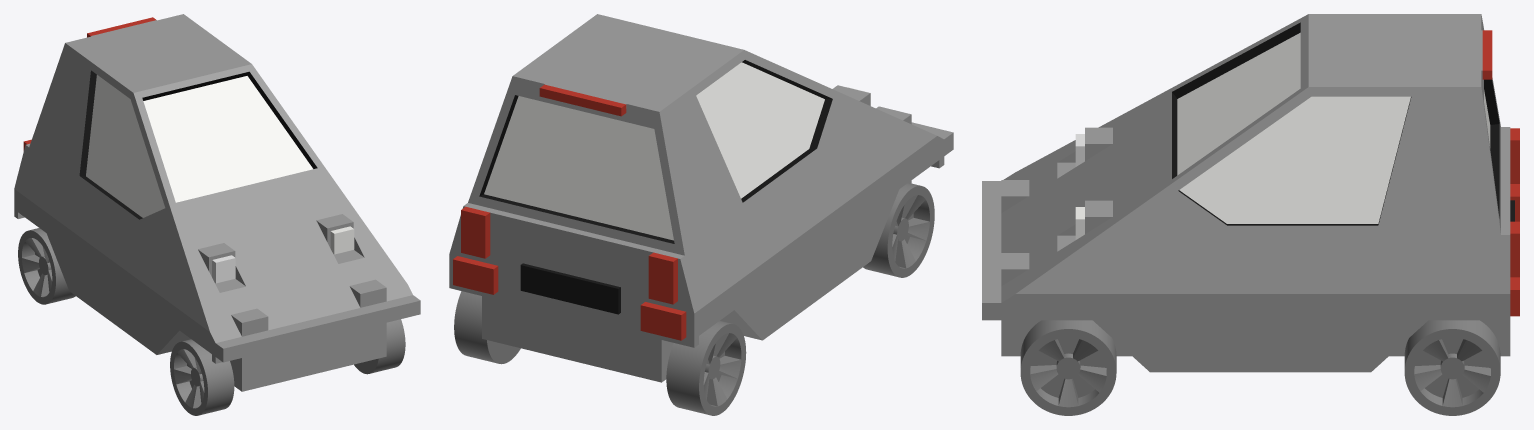
File: CitiCar v2.fbx
The picture shows the model from 3 angles, left to right: view 1: azimuth 30°, elevation 25°; view 2: azimuth 150°, elevation 25°; view 3: azimuth 270°, elevation 25°; orthographic projection. The views are drawn at different scales.
Parts seen in each view (by area): view 1: Body1 (×6); view 2: Body1 (×8), Körper1 (×2); view 3: Body1 (×6).
Part boxes in pixels (x1,y1,x2,y2): Body1 (×6): (14, 14, 420, 415); Body1 (×8): (449, 14, 953, 415); Körper1 (×2): (453, 256, 686, 340); Body1 (×6): (982, 14, 1519, 415).
Size of the model in its own units: 600 by 700 by 1120.
